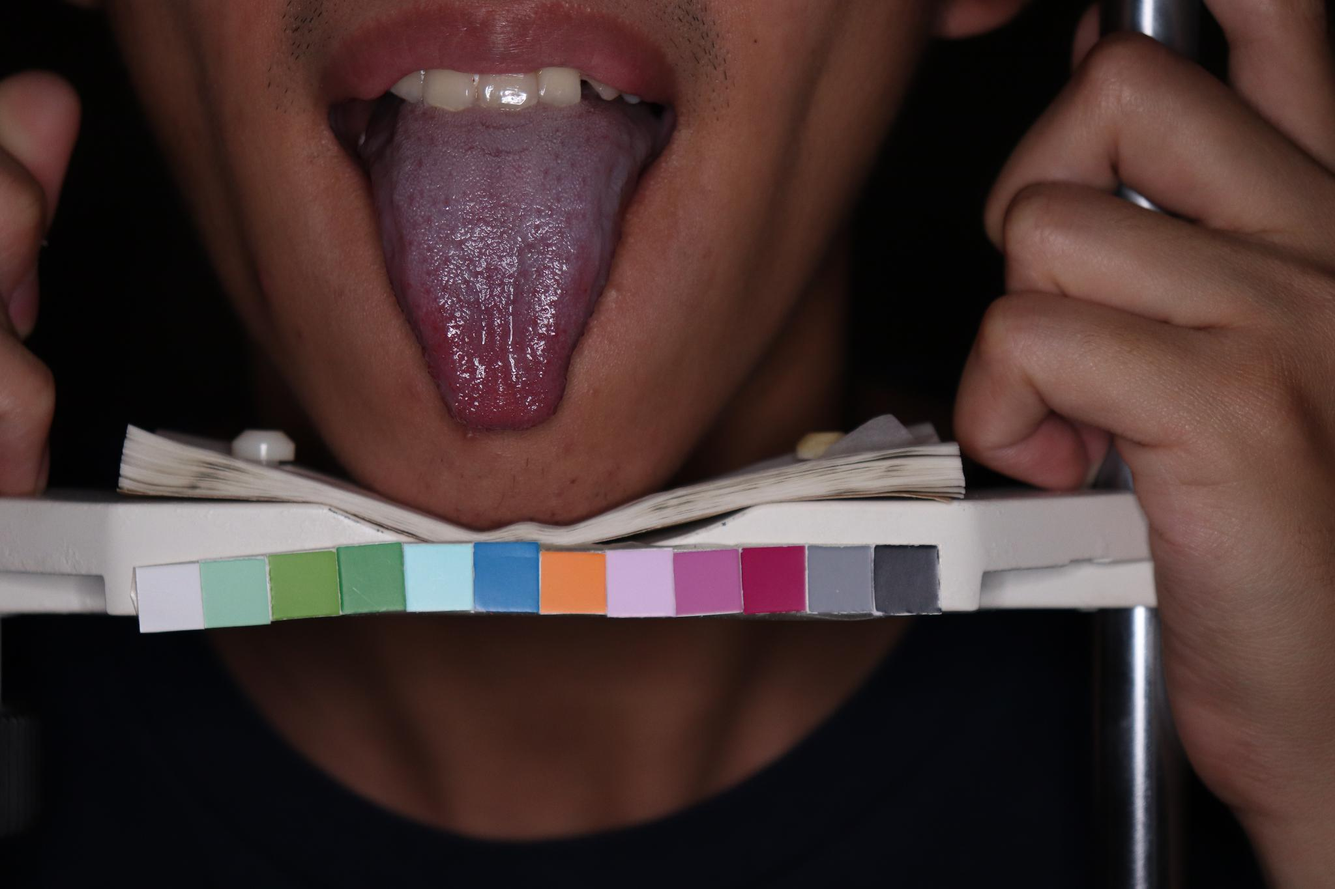hongdianshe: (581, 287, 589, 293), (439, 352, 446, 358), (506, 379, 512, 385), (455, 382, 460, 389), (488, 374, 493, 380)
shoushe: (360, 92, 655, 432)
zishe: (360, 92, 655, 432)
